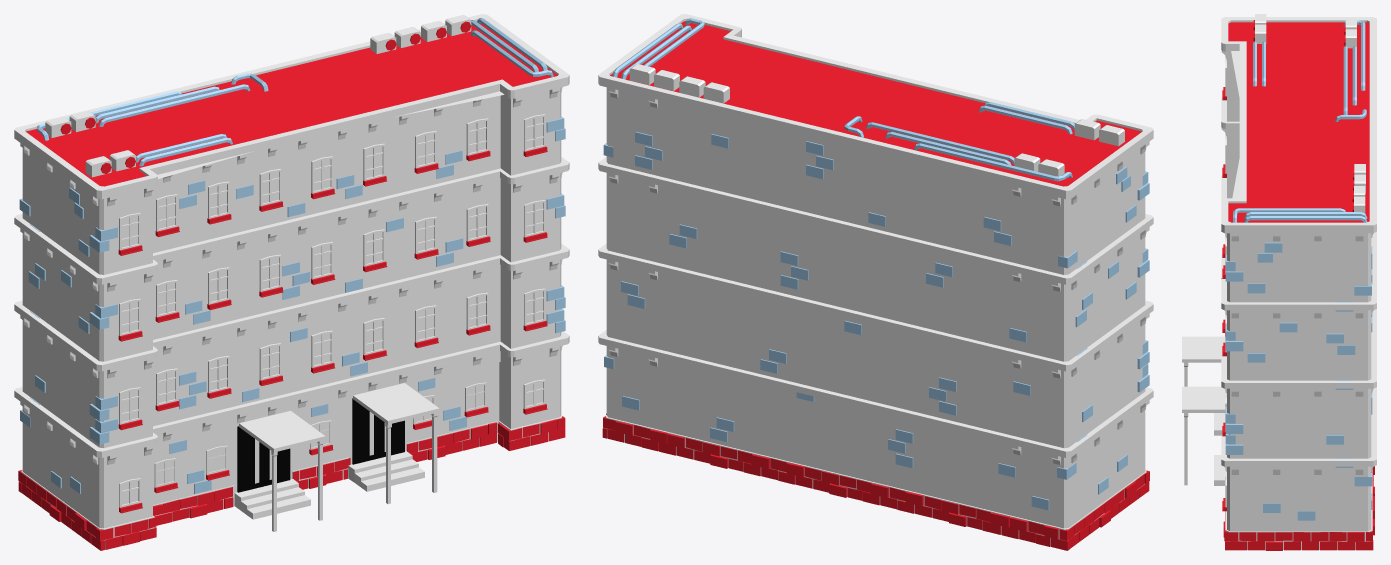
Rendered from building_quaternius_4Story_Wide_2Doors.glb.
3 views of the same model, side by side, from view 1: azimuth 30°, elevation 25°; view 2: azimuth 150°, elevation 25°; view 3: azimuth 270°, elevation 25° (orthographic). The views are drawn at different scales.
Bounding box in the file's own units: 6.83 × 5.15 × 2.7.
1 material, 1 textured.
